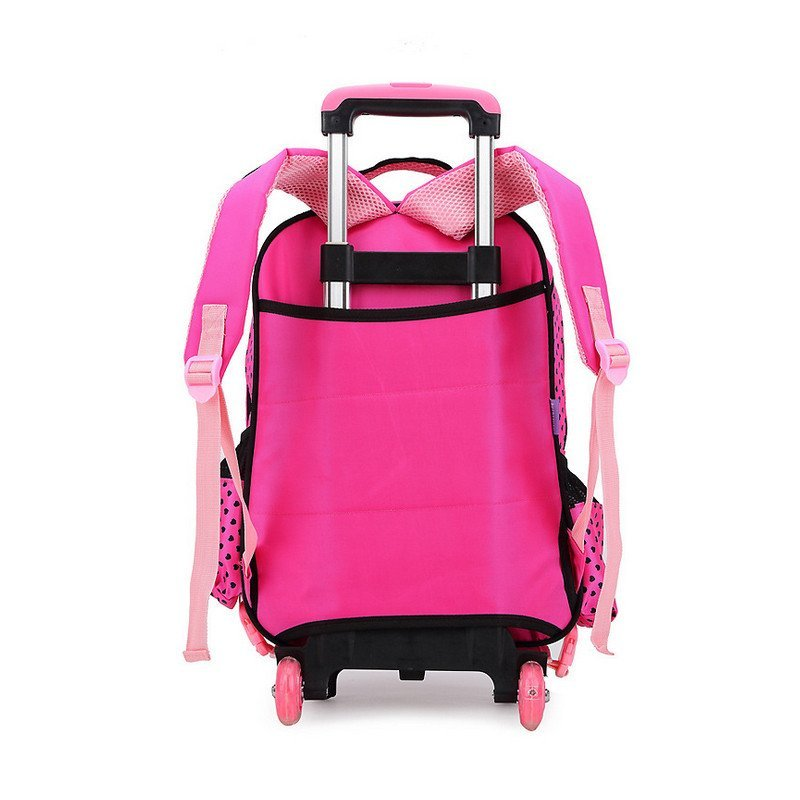luggage: (183, 81, 631, 733)
